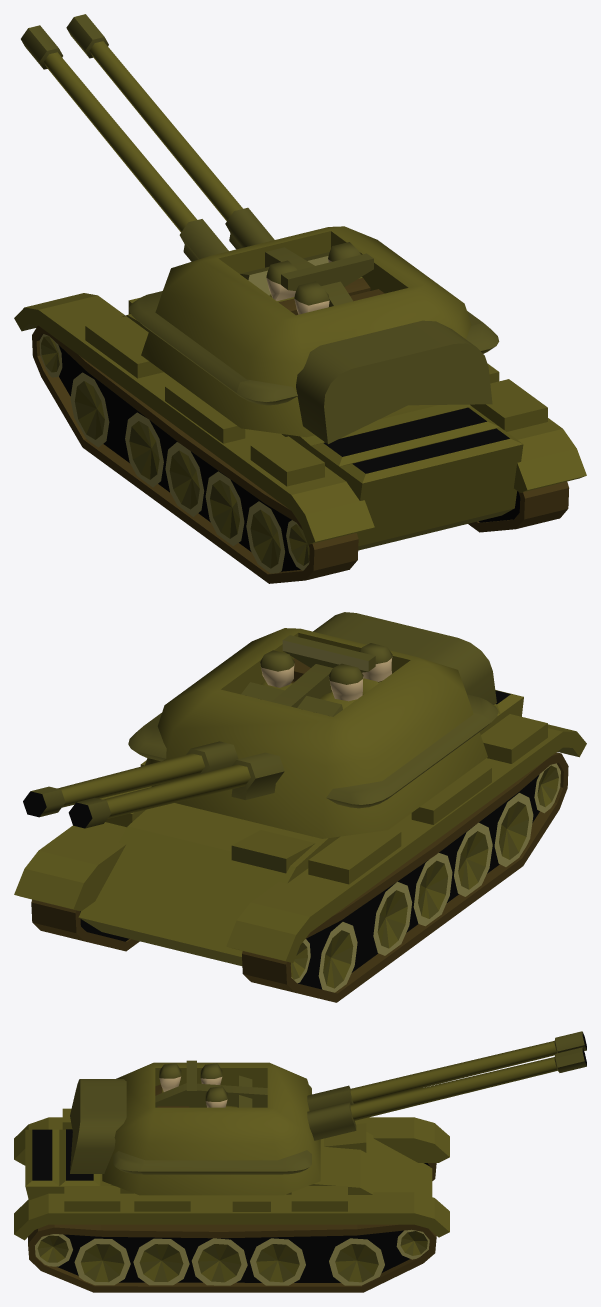
The model's file is zsu57.glb.
3 renders of one model, top to bottom at view 1: azimuth 30°, elevation 25°; view 2: azimuth 150°, elevation 25°; view 3: azimuth 270°, elevation 25°, orthographic. The views are drawn at different scales.
Visible parts, largest first — view 1: hull.002, ysflight_zsu57_turret_2.002, barrel; view 2: hull.002, ysflight_zsu57_turret_2.002, barrel; view 3: hull.002, ysflight_zsu57_turret_2.002, barrel.
Part boxes in pixels (box(x1,y1,x2,y2)): hull.002: box(14, 293, 586, 583); ysflight_zsu57_turret_2.002: box(129, 226, 499, 444); barrel: box(21, 14, 274, 261); hull.002: box(14, 690, 586, 1002); ysflight_zsu57_turret_2.002: box(128, 612, 498, 838); barrel: box(23, 741, 284, 828); hull.002: box(14, 1108, 449, 1292); ysflight_zsu57_turret_2.002: box(70, 1060, 320, 1195); barrel: box(307, 1031, 586, 1140).
Bounding box in the file's own units: 0.396 × 0.3967 × 1.
